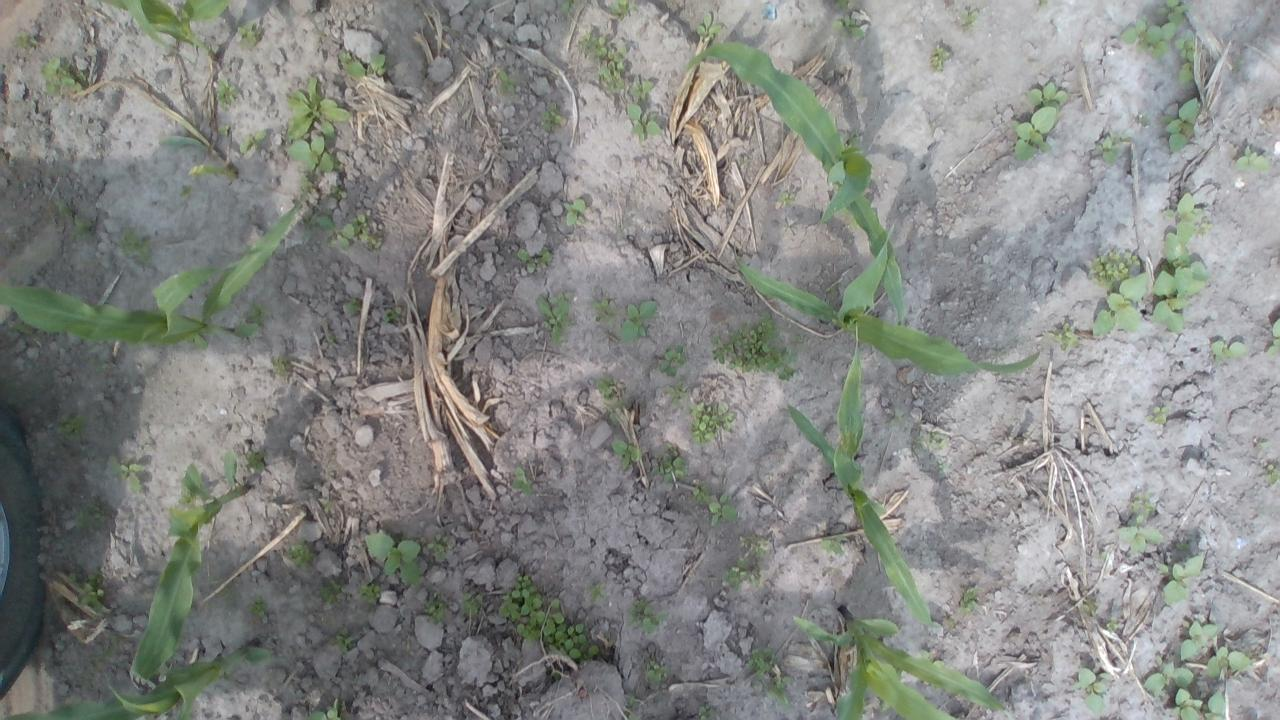Maize: (683, 41, 907, 327), (732, 220, 1042, 380), (0, 190, 310, 349), (788, 323, 936, 630), (128, 446, 254, 684), (791, 604, 1006, 720), (0, 637, 271, 720), (98, 0, 230, 65), (159, 135, 243, 182)
Weeds: (498, 572, 599, 662), (712, 311, 798, 380), (1152, 233, 1208, 334), (1011, 82, 1068, 160), (286, 78, 350, 138), (1092, 273, 1148, 335), (578, 32, 628, 92), (364, 534, 422, 585), (1119, 14, 1177, 60), (1162, 192, 1212, 245), (316, 214, 383, 252), (1157, 555, 1204, 606), (1142, 654, 1195, 698), (1087, 248, 1141, 290), (1160, 98, 1199, 152), (689, 402, 738, 444), (1072, 668, 1114, 716), (536, 293, 574, 345), (41, 57, 88, 96), (286, 136, 334, 174), (68, 568, 106, 614), (620, 300, 658, 342), (55, 201, 94, 240), (1180, 620, 1218, 660), (721, 558, 766, 591), (1206, 646, 1252, 677), (629, 600, 670, 634), (627, 103, 662, 141), (108, 456, 144, 492), (1096, 131, 1134, 164), (651, 452, 688, 485), (72, 500, 111, 530), (120, 228, 152, 264), (1118, 526, 1162, 552), (91, 634, 122, 670), (1171, 688, 1203, 720), (658, 344, 688, 378), (610, 439, 642, 470), (282, 540, 318, 567), (1234, 145, 1270, 172), (709, 492, 737, 526), (1210, 340, 1246, 366), (1048, 322, 1080, 350), (1156, 0, 1190, 26), (56, 412, 85, 442), (748, 647, 778, 676), (337, 50, 366, 78), (1174, 29, 1198, 62), (306, 698, 342, 720), (831, 14, 864, 38), (215, 77, 237, 112), (1130, 492, 1154, 524), (768, 676, 792, 708), (518, 248, 552, 270), (910, 432, 950, 450), (304, 210, 336, 232), (696, 12, 722, 39), (588, 299, 617, 323), (644, 660, 670, 686), (540, 102, 562, 132), (427, 534, 452, 560), (1204, 691, 1226, 720), (740, 537, 769, 559), (629, 77, 654, 102), (564, 200, 588, 226), (512, 466, 532, 497), (239, 131, 267, 153), (238, 22, 262, 47), (317, 579, 341, 604), (245, 302, 272, 324), (1265, 317, 1280, 356), (821, 534, 848, 554), (597, 374, 616, 401), (930, 44, 949, 71), (358, 583, 381, 605), (460, 593, 482, 616), (666, 381, 688, 404), (424, 600, 445, 624), (608, 0, 636, 18), (958, 588, 978, 613), (334, 628, 354, 653), (606, 403, 628, 425), (14, 30, 38, 50), (498, 71, 518, 94), (1146, 406, 1172, 423), (245, 450, 267, 470), (271, 357, 293, 377), (248, 595, 268, 617), (921, 650, 944, 668), (368, 54, 386, 76), (960, 9, 979, 29), (1178, 62, 1194, 85), (178, 485, 196, 505), (382, 307, 403, 323), (588, 582, 606, 600), (1082, 599, 1098, 618), (1265, 464, 1280, 484), (626, 696, 638, 720), (692, 486, 709, 502), (1106, 616, 1122, 632), (888, 410, 904, 426), (90, 359, 109, 372), (1176, 536, 1191, 552), (346, 298, 361, 314), (179, 184, 194, 200), (223, 586, 237, 603), (300, 174, 314, 191), (190, 335, 208, 348), (560, 0, 578, 13), (331, 185, 346, 200), (1134, 114, 1150, 127), (778, 193, 795, 205), (321, 501, 335, 514), (698, 706, 711, 720), (666, 444, 679, 458), (944, 616, 956, 630), (324, 332, 338, 344), (1255, 441, 1270, 452), (218, 125, 232, 136), (825, 288, 839, 298), (1234, 60, 1248, 70), (834, 0, 849, 9), (791, 334, 804, 344), (550, 670, 562, 680), (938, 462, 949, 472), (1098, 550, 1108, 560), (739, 156, 749, 166), (1039, 0, 1047, 6)
